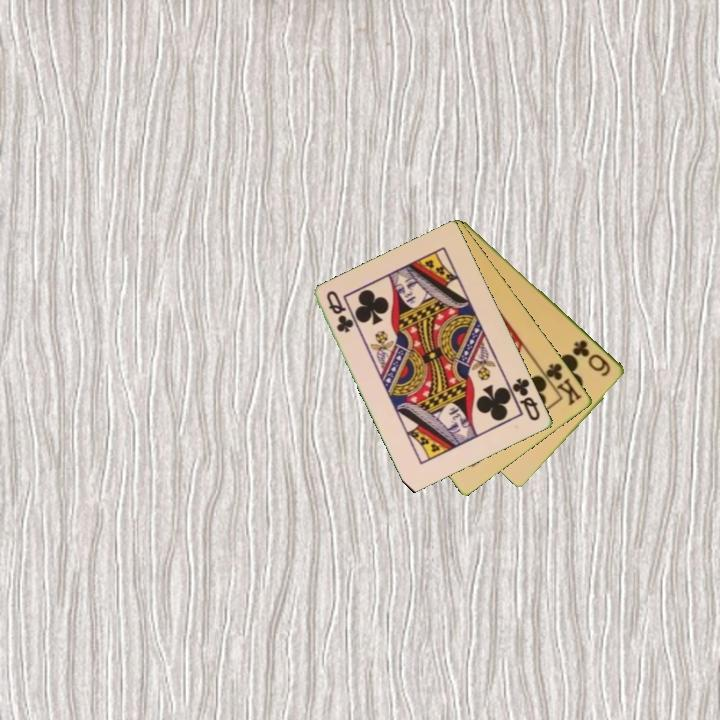6c: (569, 336, 614, 379)
Kc: (537, 359, 585, 409)
Qc: (505, 374, 544, 424), (323, 287, 356, 336)
